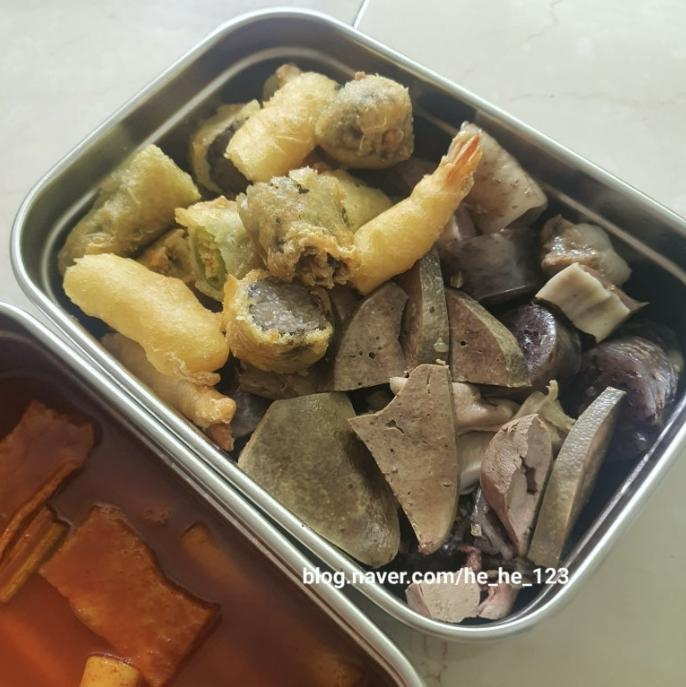Lunch Box: (10, 8, 685, 642), (0, 305, 425, 686)
